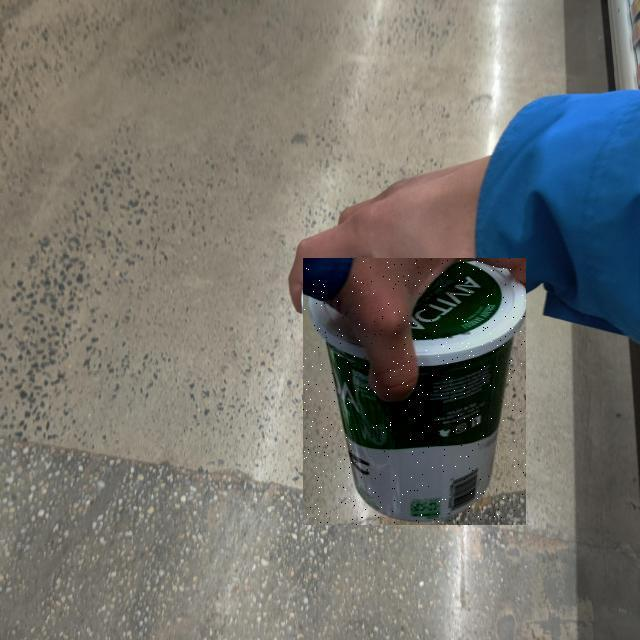Yoghurt: (303, 258, 526, 525)
